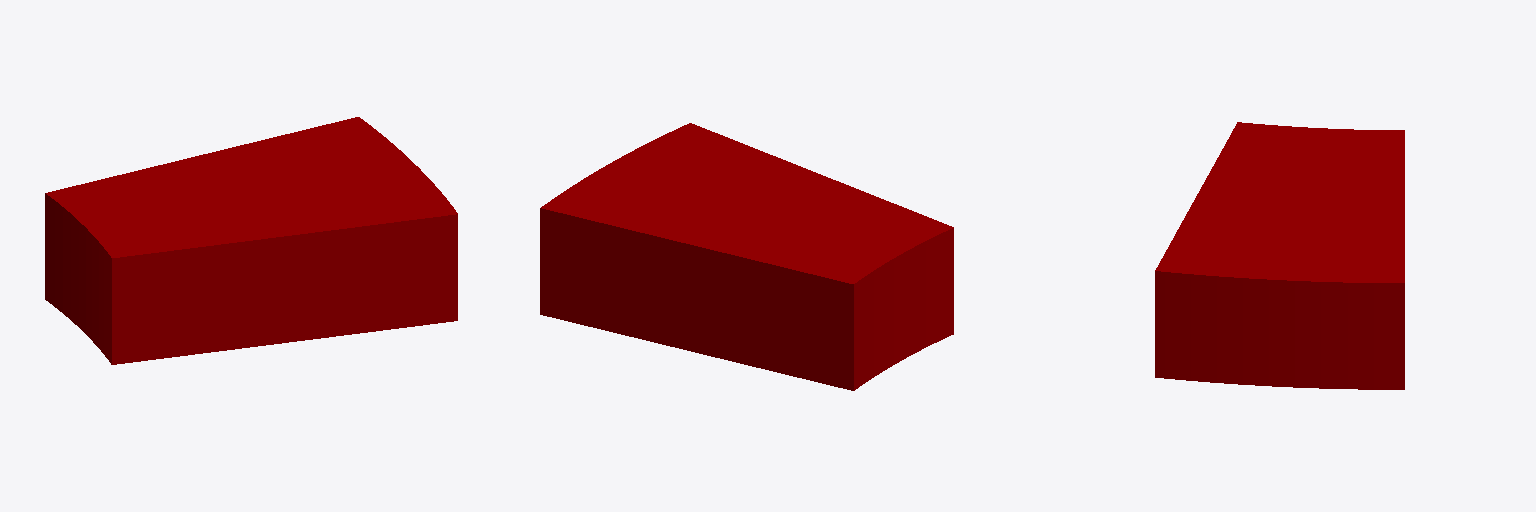
The model's file is percent.obj.
3 renders of one model, left to right at view 1: azimuth 30°, elevation 25°; view 2: azimuth 150°, elevation 25°; view 3: azimuth 270°, elevation 25°, orthographic.
Visible parts, largest first — view 1: Cylinder; view 2: Cylinder; view 3: Cylinder.
Boxes of the visible parts, box(x1,y1,x2,y2) form: Cylinder: box(45, 117, 457, 364); Cylinder: box(540, 123, 953, 390); Cylinder: box(1155, 122, 1404, 389).
Bounding box in the file's own units: 0.5187 × 0.16 × 0.3396.